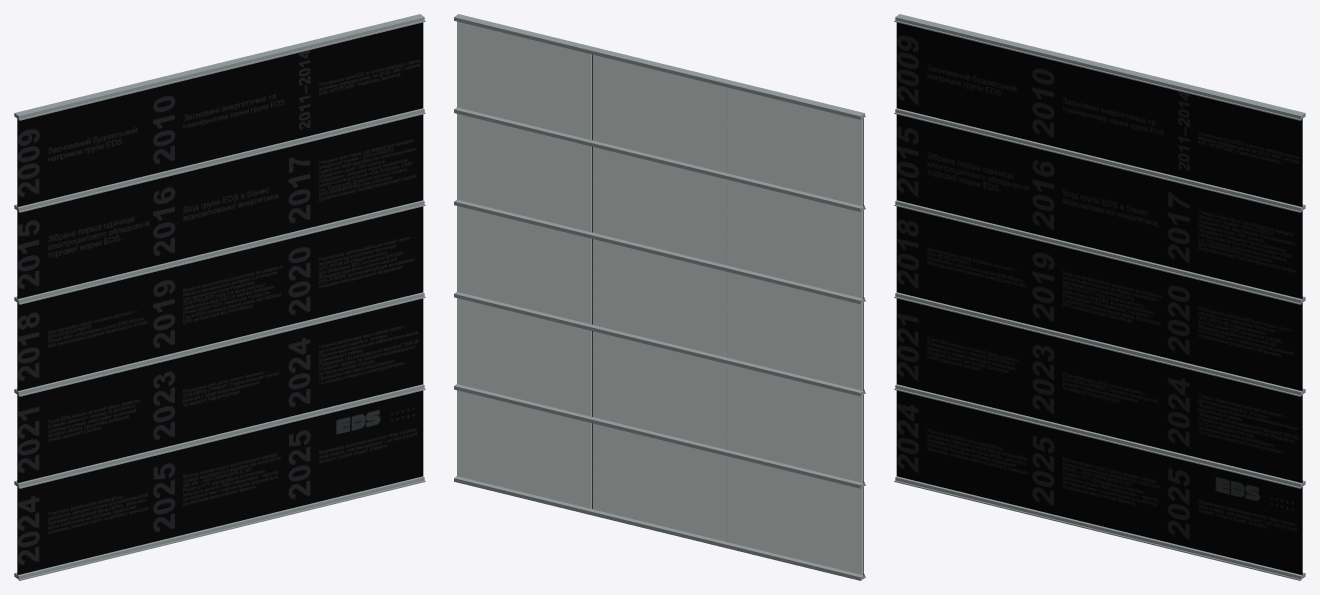
The model's file is edsSignage-1.glb.
3 renders of one model, left to right at view 1: azimuth 30°, elevation 25°; view 2: azimuth 150°, elevation 25°; view 3: azimuth 330°, elevation 25°, orthographic.
Visible parts, largest first — view 1: eds-timeline/timeline-vector-ink-atlas, eds-timeline/anodized-aluminum; view 2: eds-timeline/clear-acrylic, eds-timeline/anodized-aluminum, eds-timeline/timeline-vector-ink-atlas; view 3: eds-timeline/timeline-vector-ink-atlas, eds-timeline/anodized-aluminum.
Part boxes in pixels (<box>): eds-timeline/timeline-vector-ink-atlas: <box>17,22,423,575</box>; eds-timeline/anodized-aluminum: <box>14,14,425,580</box>; eds-timeline/clear-acrylic: <box>457,21,862,574</box>; eds-timeline/anodized-aluminum: <box>454,14,865,580</box>; eds-timeline/timeline-vector-ink-atlas: <box>592,54,863,575</box>; eds-timeline/timeline-vector-ink-atlas: <box>896,22,1302,575</box>; eds-timeline/anodized-aluminum: <box>894,14,1305,580</box>.
Bounding box in the file's own units: 1.68 × 1.84 × 0.0374.
Materials: 3 (1 with a texture image).
